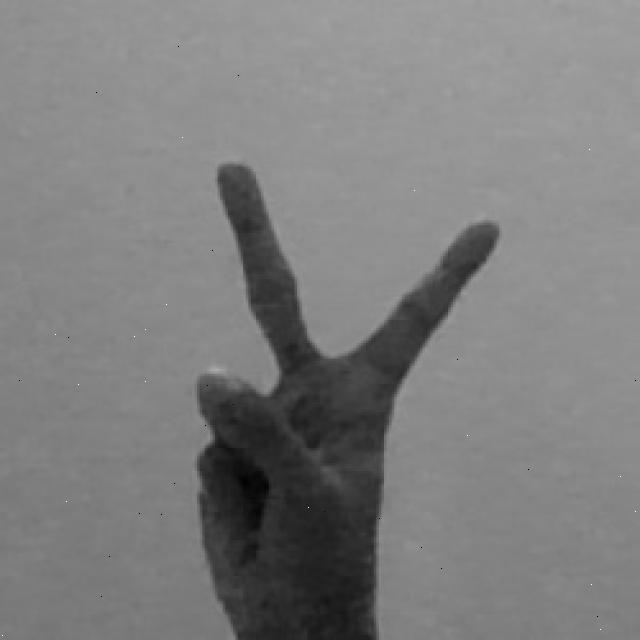V: (182, 156, 507, 631)
